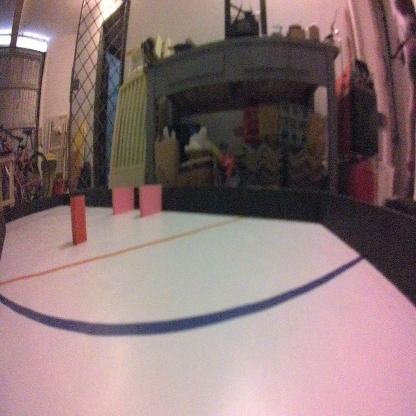magenta: (137, 182, 162, 214), (111, 182, 134, 216)
red: (68, 192, 88, 247)
